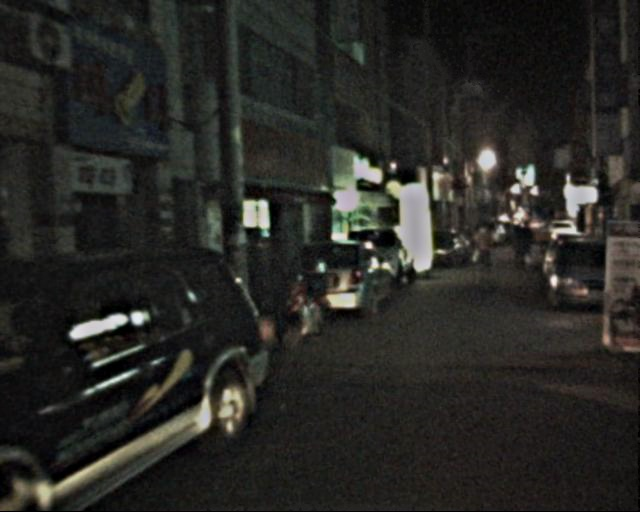person: (474, 222, 506, 274), (510, 222, 539, 276)
